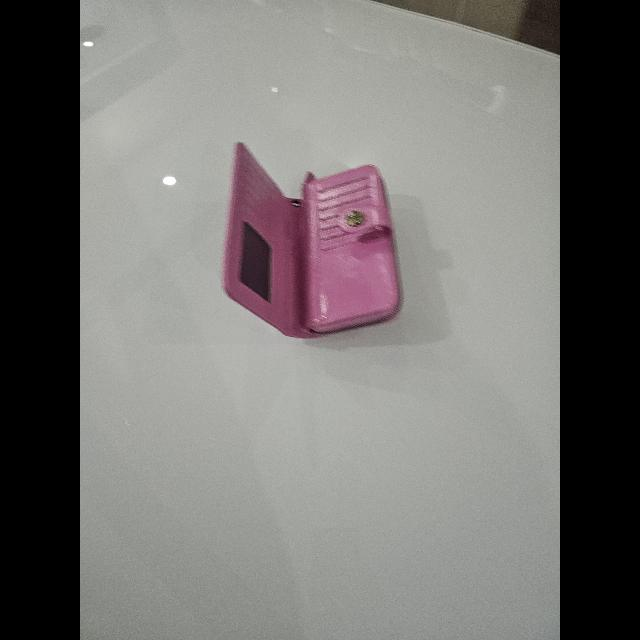Wallet: (224, 142, 402, 338)
